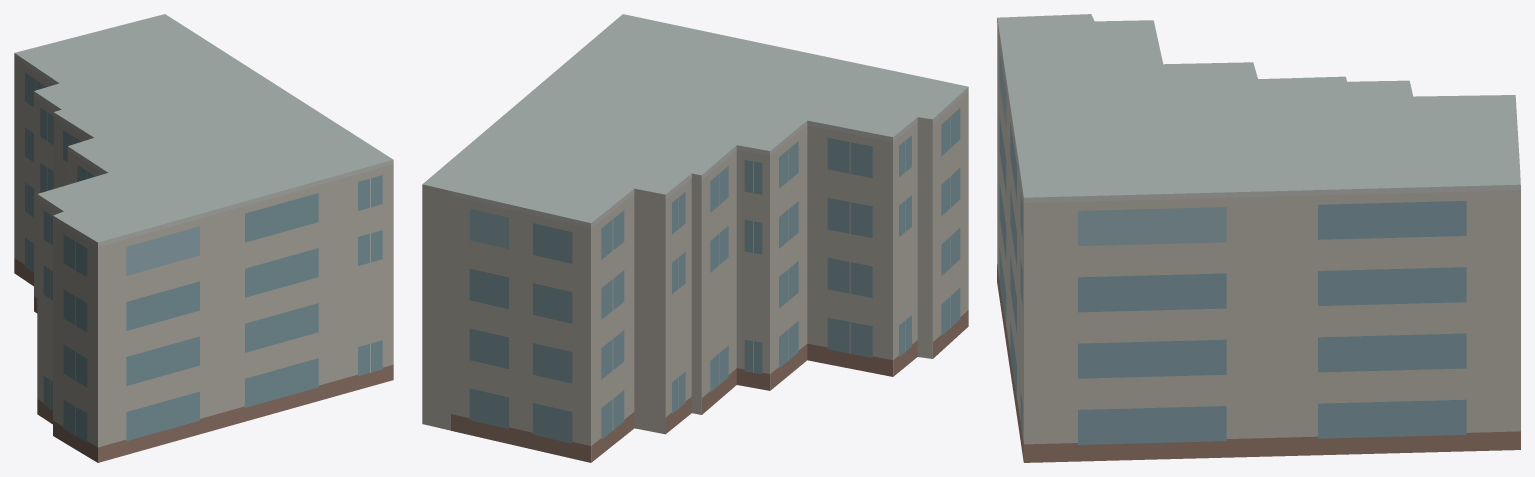
File: survey-upis-32539282.glb
3 renders of one model, left to right at view 1: azimuth 30°, elevation 25°; view 2: azimuth 150°, elevation 25°; view 3: azimuth 270°, elevation 25°, orthographic. The views are drawn at different scales.
Visible parts, largest first — view 1: survey-upis-32539282.tmp; view 2: survey-upis-32539282.tmp; view 3: survey-upis-32539282.tmp.
Part boxes in pixels (x1,y1,x2,y2): survey-upis-32539282.tmp: (14, 14, 393, 462); survey-upis-32539282.tmp: (422, 14, 968, 462); survey-upis-32539282.tmp: (997, 14, 1520, 462).
Size of the model in its own units: 17.99 by 12.1 by 21.66.
